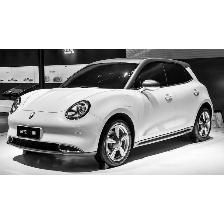EV: (9, 58, 216, 171)
